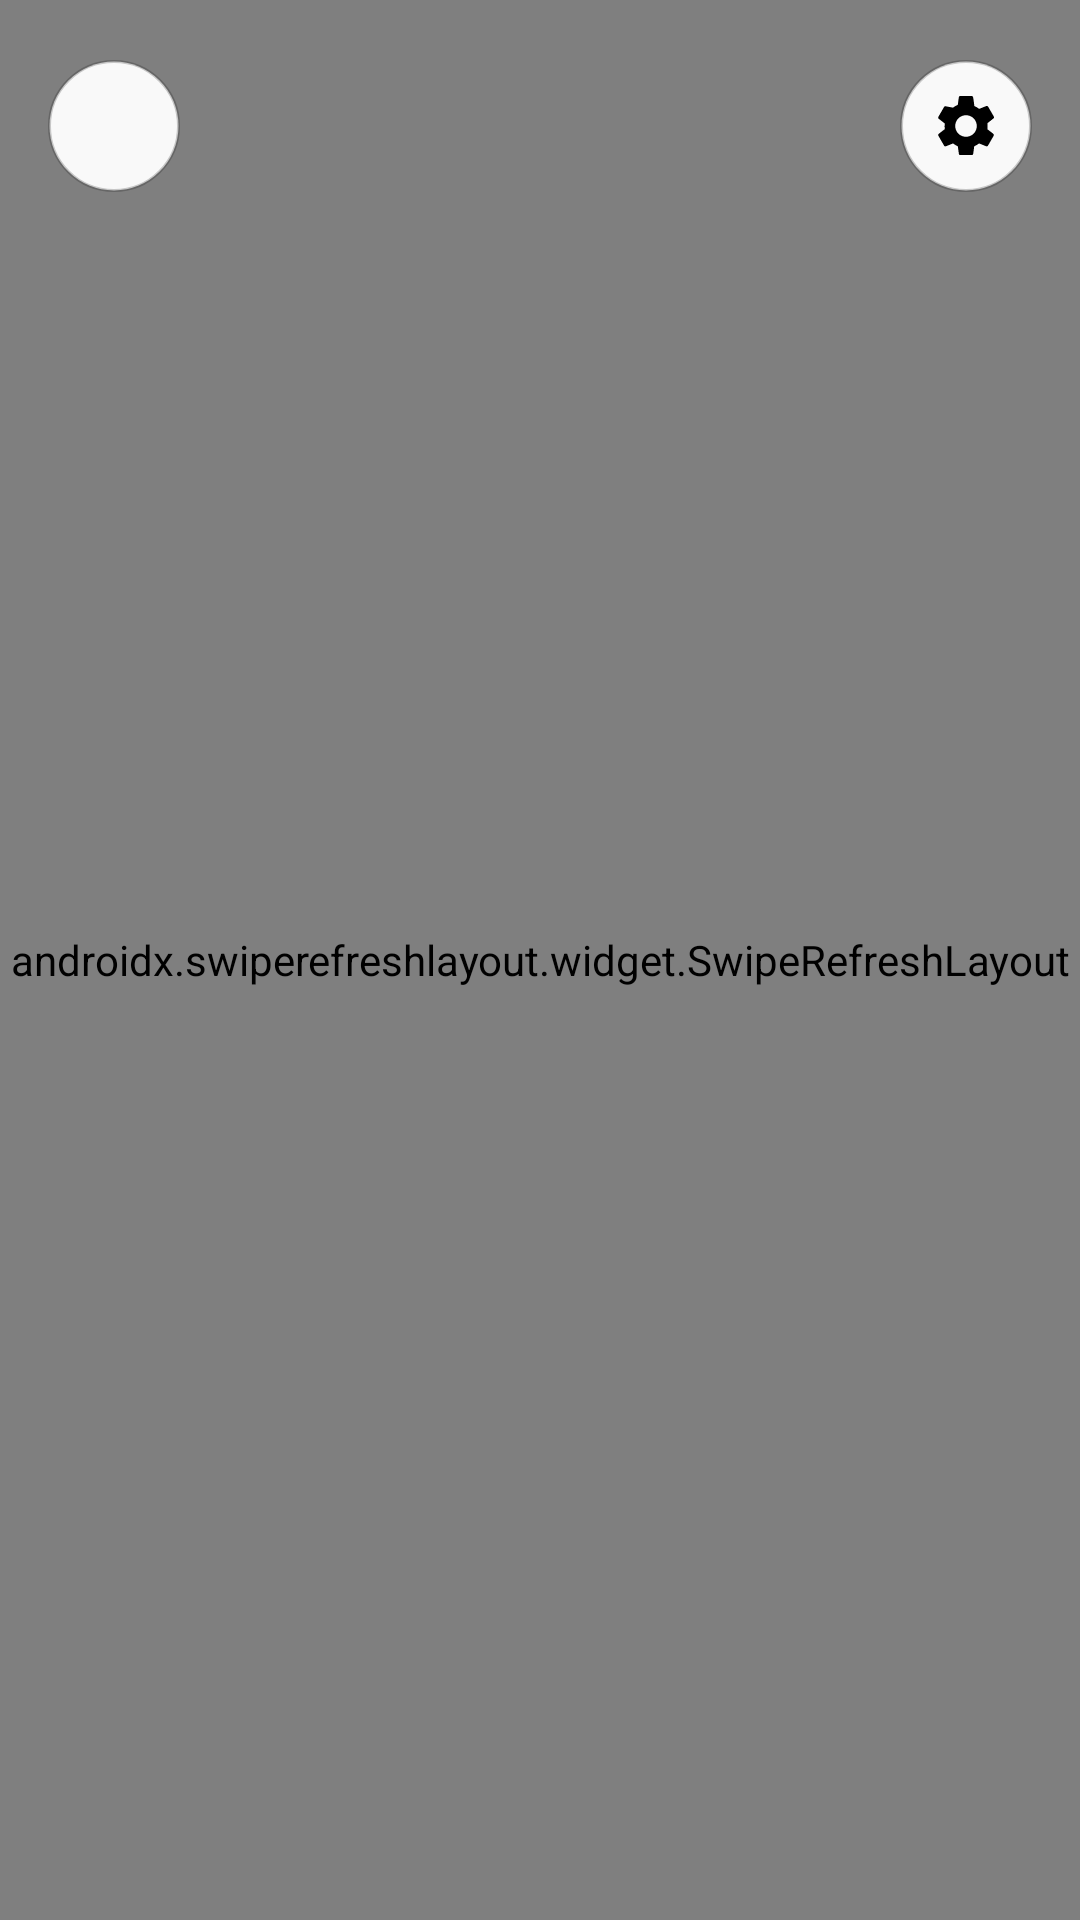

Screen size 1080px x 1920px. Icon name, then its center in pixels as point (x, y):
Settings: point (966, 126)
